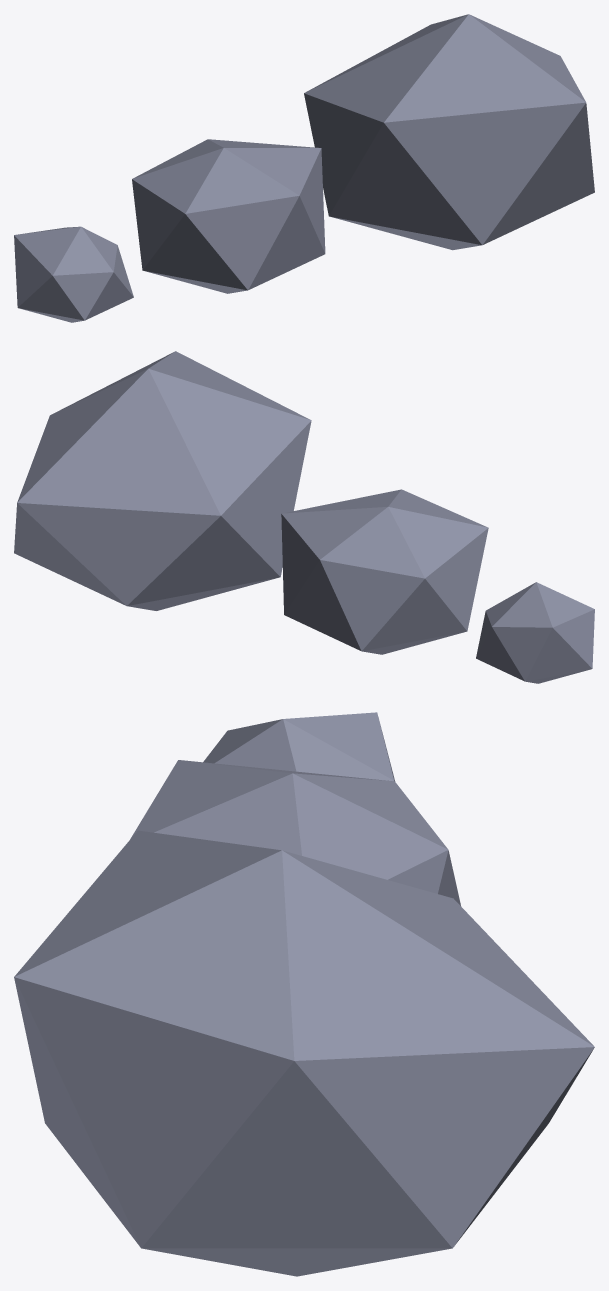
File: SM_Dressing_Boulders.fbx
3 renders of one model, top to bottom at view 1: azimuth 30°, elevation 25°; view 2: azimuth 150°, elevation 25°; view 3: azimuth 270°, elevation 25°, orthographic. The views are drawn at different scales.
Visible parts, largest first — view 1: SM_boulder_2, SM_boulder_1, SM_boulder_0; view 2: SM_boulder_2, SM_boulder_1, SM_boulder_0; view 3: SM_boulder_2, SM_boulder_1, SM_boulder_0.
Part boxes in pixels (x1=…): SM_boulder_2: x1=304, y1=14, x2=594, y2=250; SM_boulder_1: x1=132, y1=139, x2=325, y2=293; SM_boulder_0: x1=14, y1=226, x2=133, y2=322; SM_boulder_2: x1=14, y1=351, x2=311, y2=610; SM_boulder_1: x1=281, y1=489, x2=488, y2=654; SM_boulder_0: x1=476, y1=582, x2=594, y2=683; SM_boulder_2: x1=14, y1=830, x2=594, y2=1276; SM_boulder_1: x1=130, y1=760, x2=461, y2=906; SM_boulder_0: x1=203, y1=712, x2=395, y2=781.
Size of the model in its own units: 3.13 by 1.3 by 1.57.
